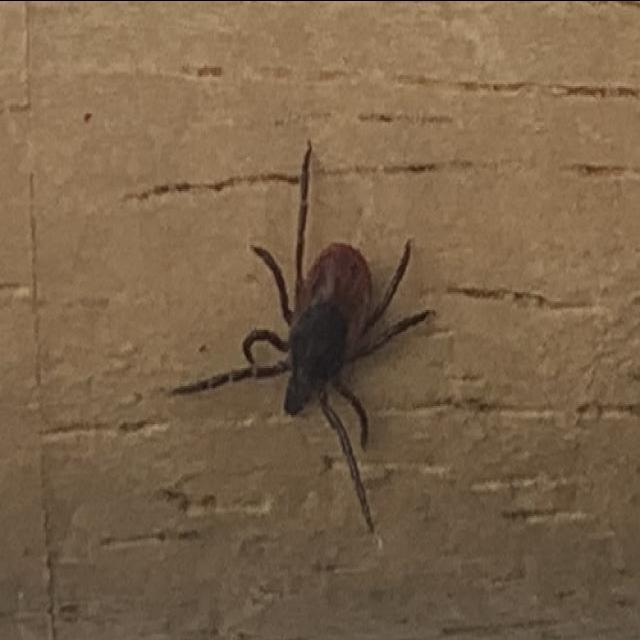Ixodes Ricinus-F: (165, 141, 436, 532)
